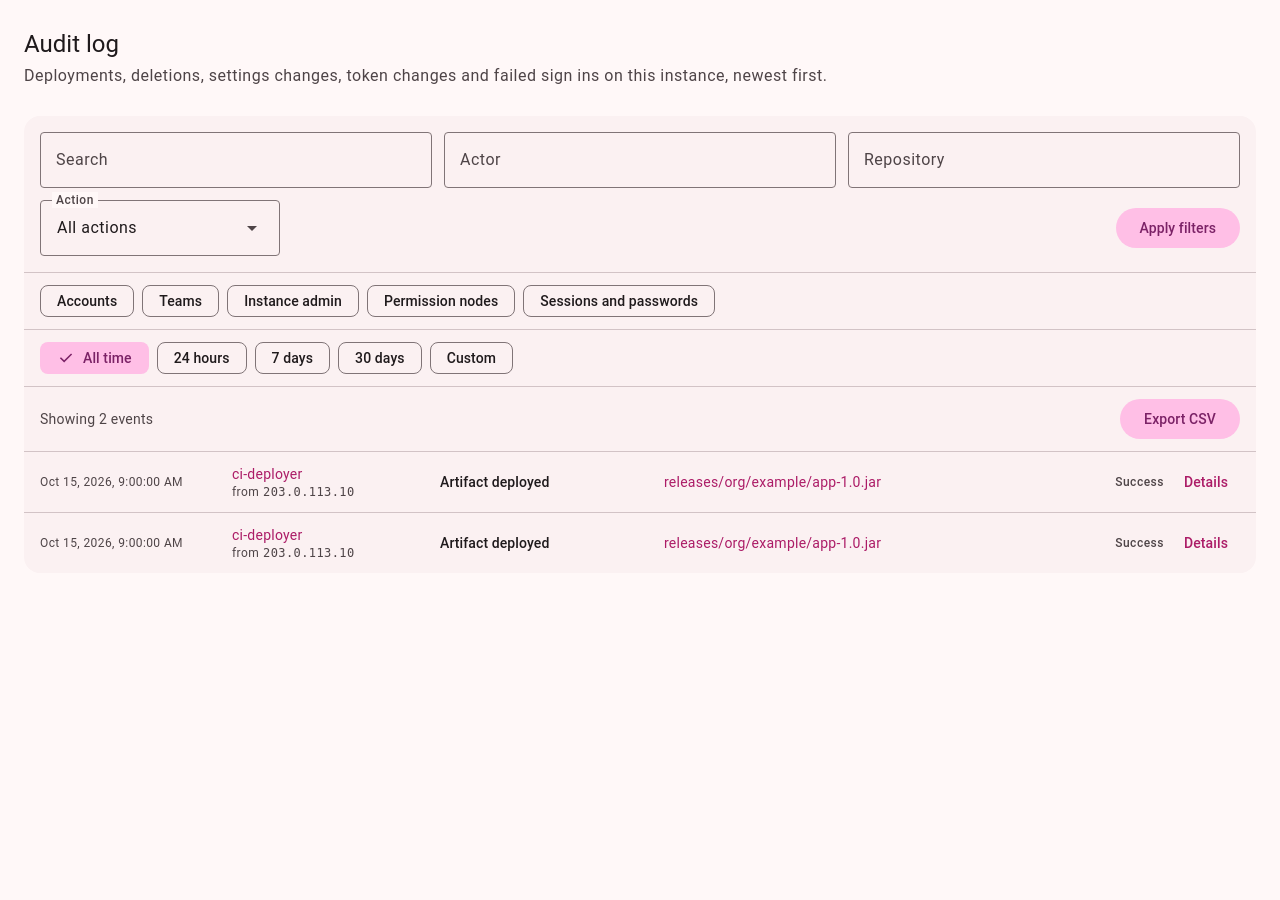
Test case: AuditView rows › opens the details of one row and keeps the others closed
This screenshot has width=1280, height=900.
Step 1. Click the 1st button "Details" → (1206, 482), box [1172,468,1240,496]
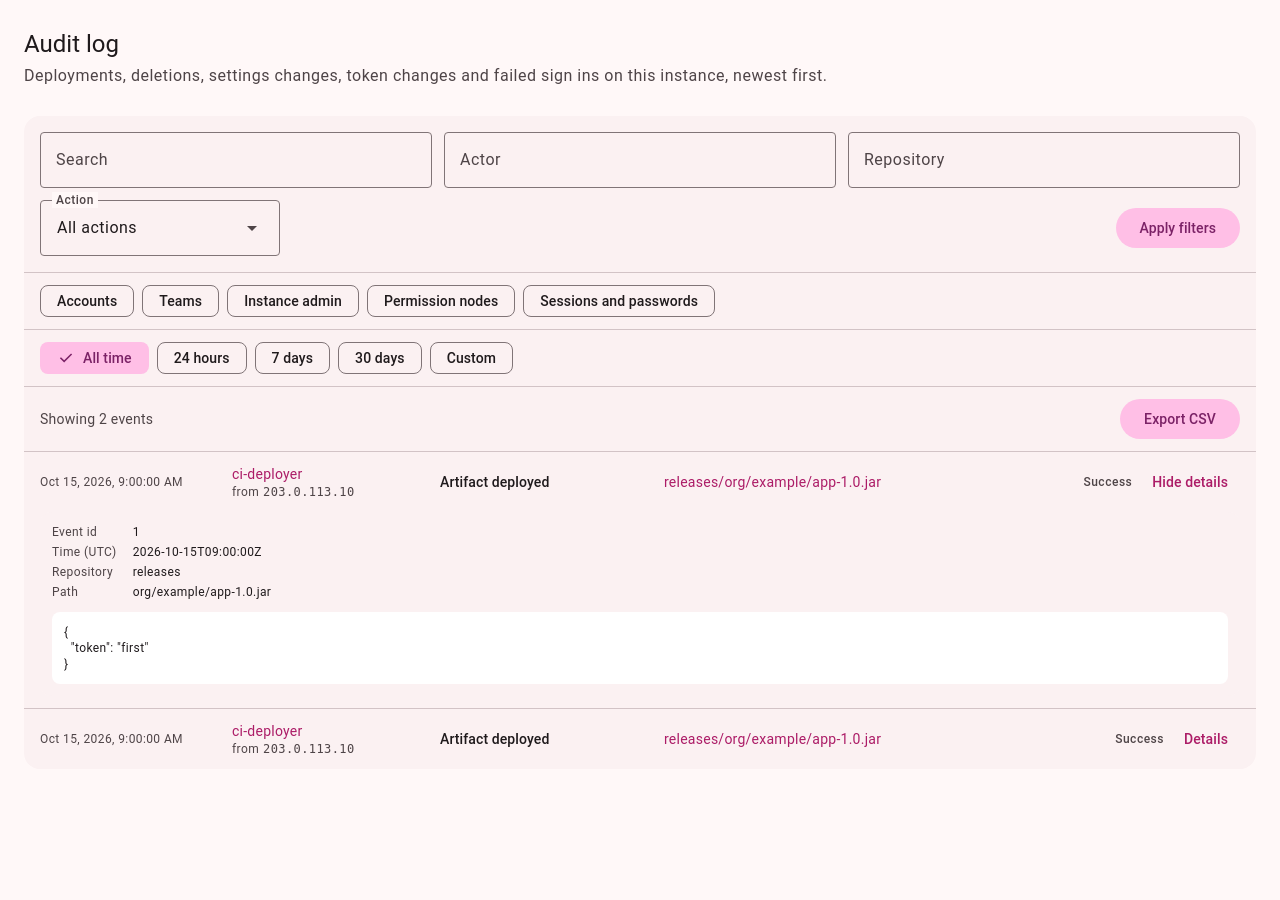
Result: the button "Hide details" is expanded at [1140,468,1240,496]
Result: the text "\"token\": \"first\"" is shown at [64,625,149,671]
